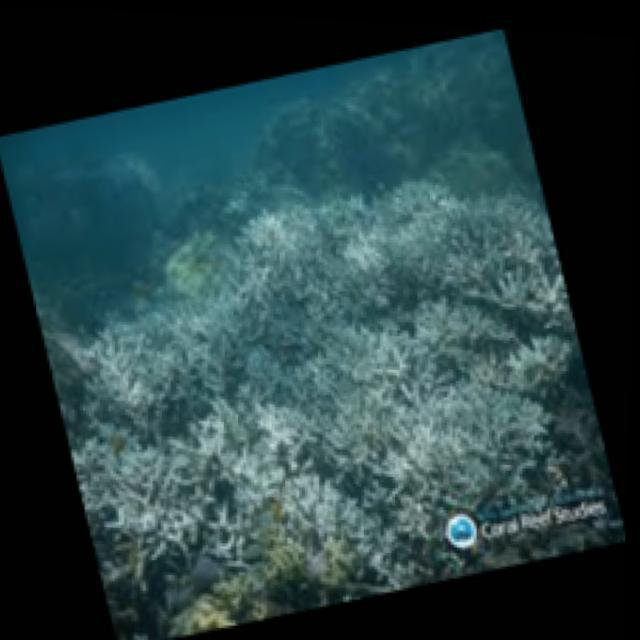Dead Coral: (83, 163, 564, 543)
